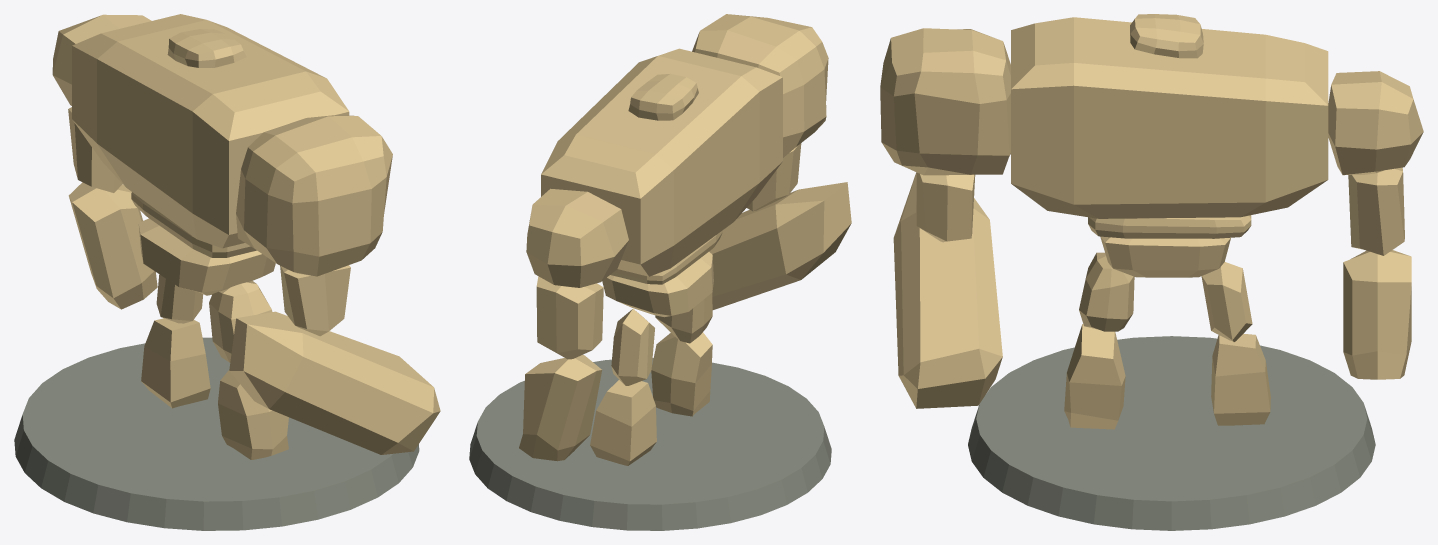
Rendered from sandgolemwaddle (1).fbx.
The picture shows the model from 3 angles, left to right: view 1: azimuth 30°, elevation 25°; view 2: azimuth 150°, elevation 25°; view 3: azimuth 270°, elevation 25°; orthographic projection. The views are drawn at different scales.
Parts seen in each view (by area): view 1: Cylinder, Cube.007, Cube.008, Cube.012, Cube.013, Cube.005, Cube.002, Cube.001, Cube.011, Cube.004, Cube.014, Cube.009 (+3 smaller); view 2: Cylinder, Cube.007, Cube.012, Cube.008, Cube.009, Cube.013, Cube.015, Cube.002, Cube.001, Cube.005, Cube.003, Cube.014 (+3 smaller); view 3: Cube.007, Cylinder, Cube.012, Cube.008, Cube.013, Cube.009, Cube.001, Cube.002, Cube.005, Cube.015, Cube.011, Cube.006 (+3 smaller).
Part boxes in pixels (x1,y1,x2,y2): Cylinder: [14, 337, 419, 530]; Cube.007: [72, 14, 349, 248]; Cube.008: [236, 115, 392, 276]; Cube.012: [229, 311, 440, 454]; Cube.013: [68, 182, 157, 309]; Cube.005: [138, 218, 275, 295]; Cube.002: [141, 318, 210, 408]; Cube.001: [218, 370, 288, 459]; Cube.011: [280, 265, 350, 336]; Cube.004: [209, 281, 272, 362]; Cube.014: [167, 29, 246, 67]; Cube.009: [52, 14, 151, 105]; Cylinder: [469, 358, 831, 530]; Cube.007: [541, 48, 782, 276]; Cube.012: [709, 182, 851, 309]; Cube.008: [692, 14, 828, 157]; Cube.009: [526, 188, 628, 287]; Cube.013: [519, 355, 601, 461]; Cube.015: [536, 276, 603, 359]; Cube.002: [590, 380, 656, 465]; Cube.001: [651, 332, 712, 416]; Cube.005: [602, 252, 713, 317]; Cube.003: [611, 309, 654, 385]; Cube.014: [628, 73, 698, 120]; Cube.007: [1011, 17, 1328, 218]; Cylinder: [968, 336, 1375, 530]; Cube.012: [893, 173, 1002, 408]; Cube.008: [880, 28, 1010, 175]; Cube.013: [1343, 250, 1411, 379]; Cube.009: [1328, 71, 1423, 175]; Cube.001: [1064, 324, 1125, 429]; Cube.002: [1211, 333, 1270, 425]; Cube.005: [1100, 236, 1230, 277]; Cube.015: [1348, 167, 1404, 255]; Cube.011: [916, 172, 975, 242]; Cube.006: [1088, 215, 1251, 238].
Size of the model in its own units: 494 by 658 by 555.
